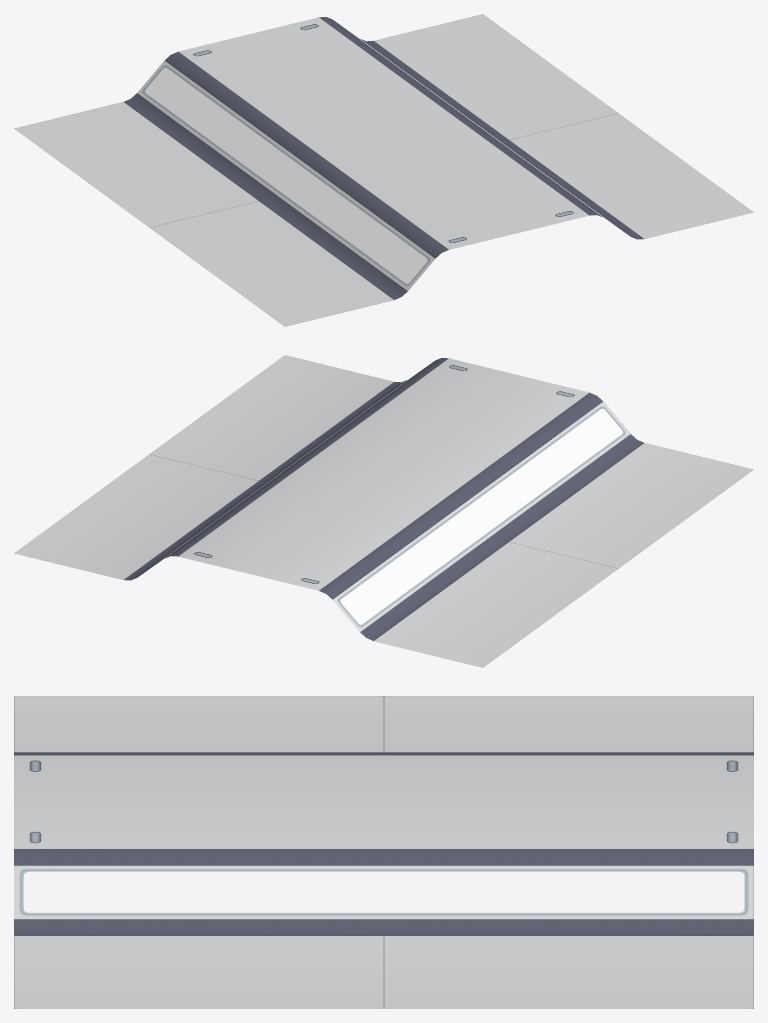
The model's file is Roof_01_LP.FBX.
The picture shows the model from 3 angles, top to bottom: view 1: azimuth 30°, elevation 25°; view 2: azimuth 150°, elevation 25°; view 3: azimuth 270°, elevation 25°; orthographic projection. The views are drawn at different scales.
Visible parts, largest first — view 1: Roof_01_LP; view 2: Roof_01_LP; view 3: Roof_01_LP.
Boxes of the visible parts, <box> form: Roof_01_LP: <box>14,14,753,326</box>; Roof_01_LP: <box>14,355,753,667</box>; Roof_01_LP: <box>14,696,753,1008</box>.
Bounding box in the file's own units: 6 × 0.451 × 6.
